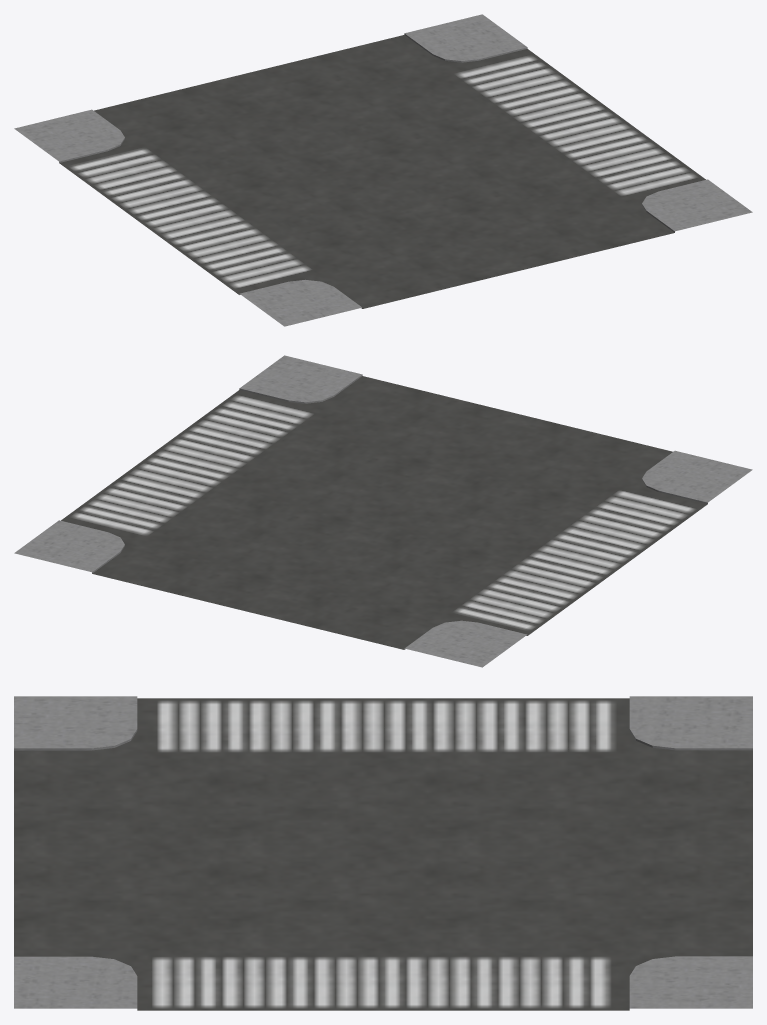
The model's file is Road_4Wayglb.glb.
3 views of the same model, one above another, from view 1: azimuth 30°, elevation 25°; view 2: azimuth 150°, elevation 25°; view 3: azimuth 270°, elevation 25° (orthographic). The views are drawn at different scales.
Visible parts, largest first — view 1: Object_4; view 2: Object_4; view 3: Object_4.
Part boxes in pixels (left/top/right/bottom): Object_4: left=14, top=14, right=752, bottom=326; Object_4: left=14, top=355, right=752, bottom=667; Object_4: left=14, top=696, right=752, bottom=1010.
Bounding box in the file's own units: 6 × 0.02 × 6.
1 material, 1 textured.
